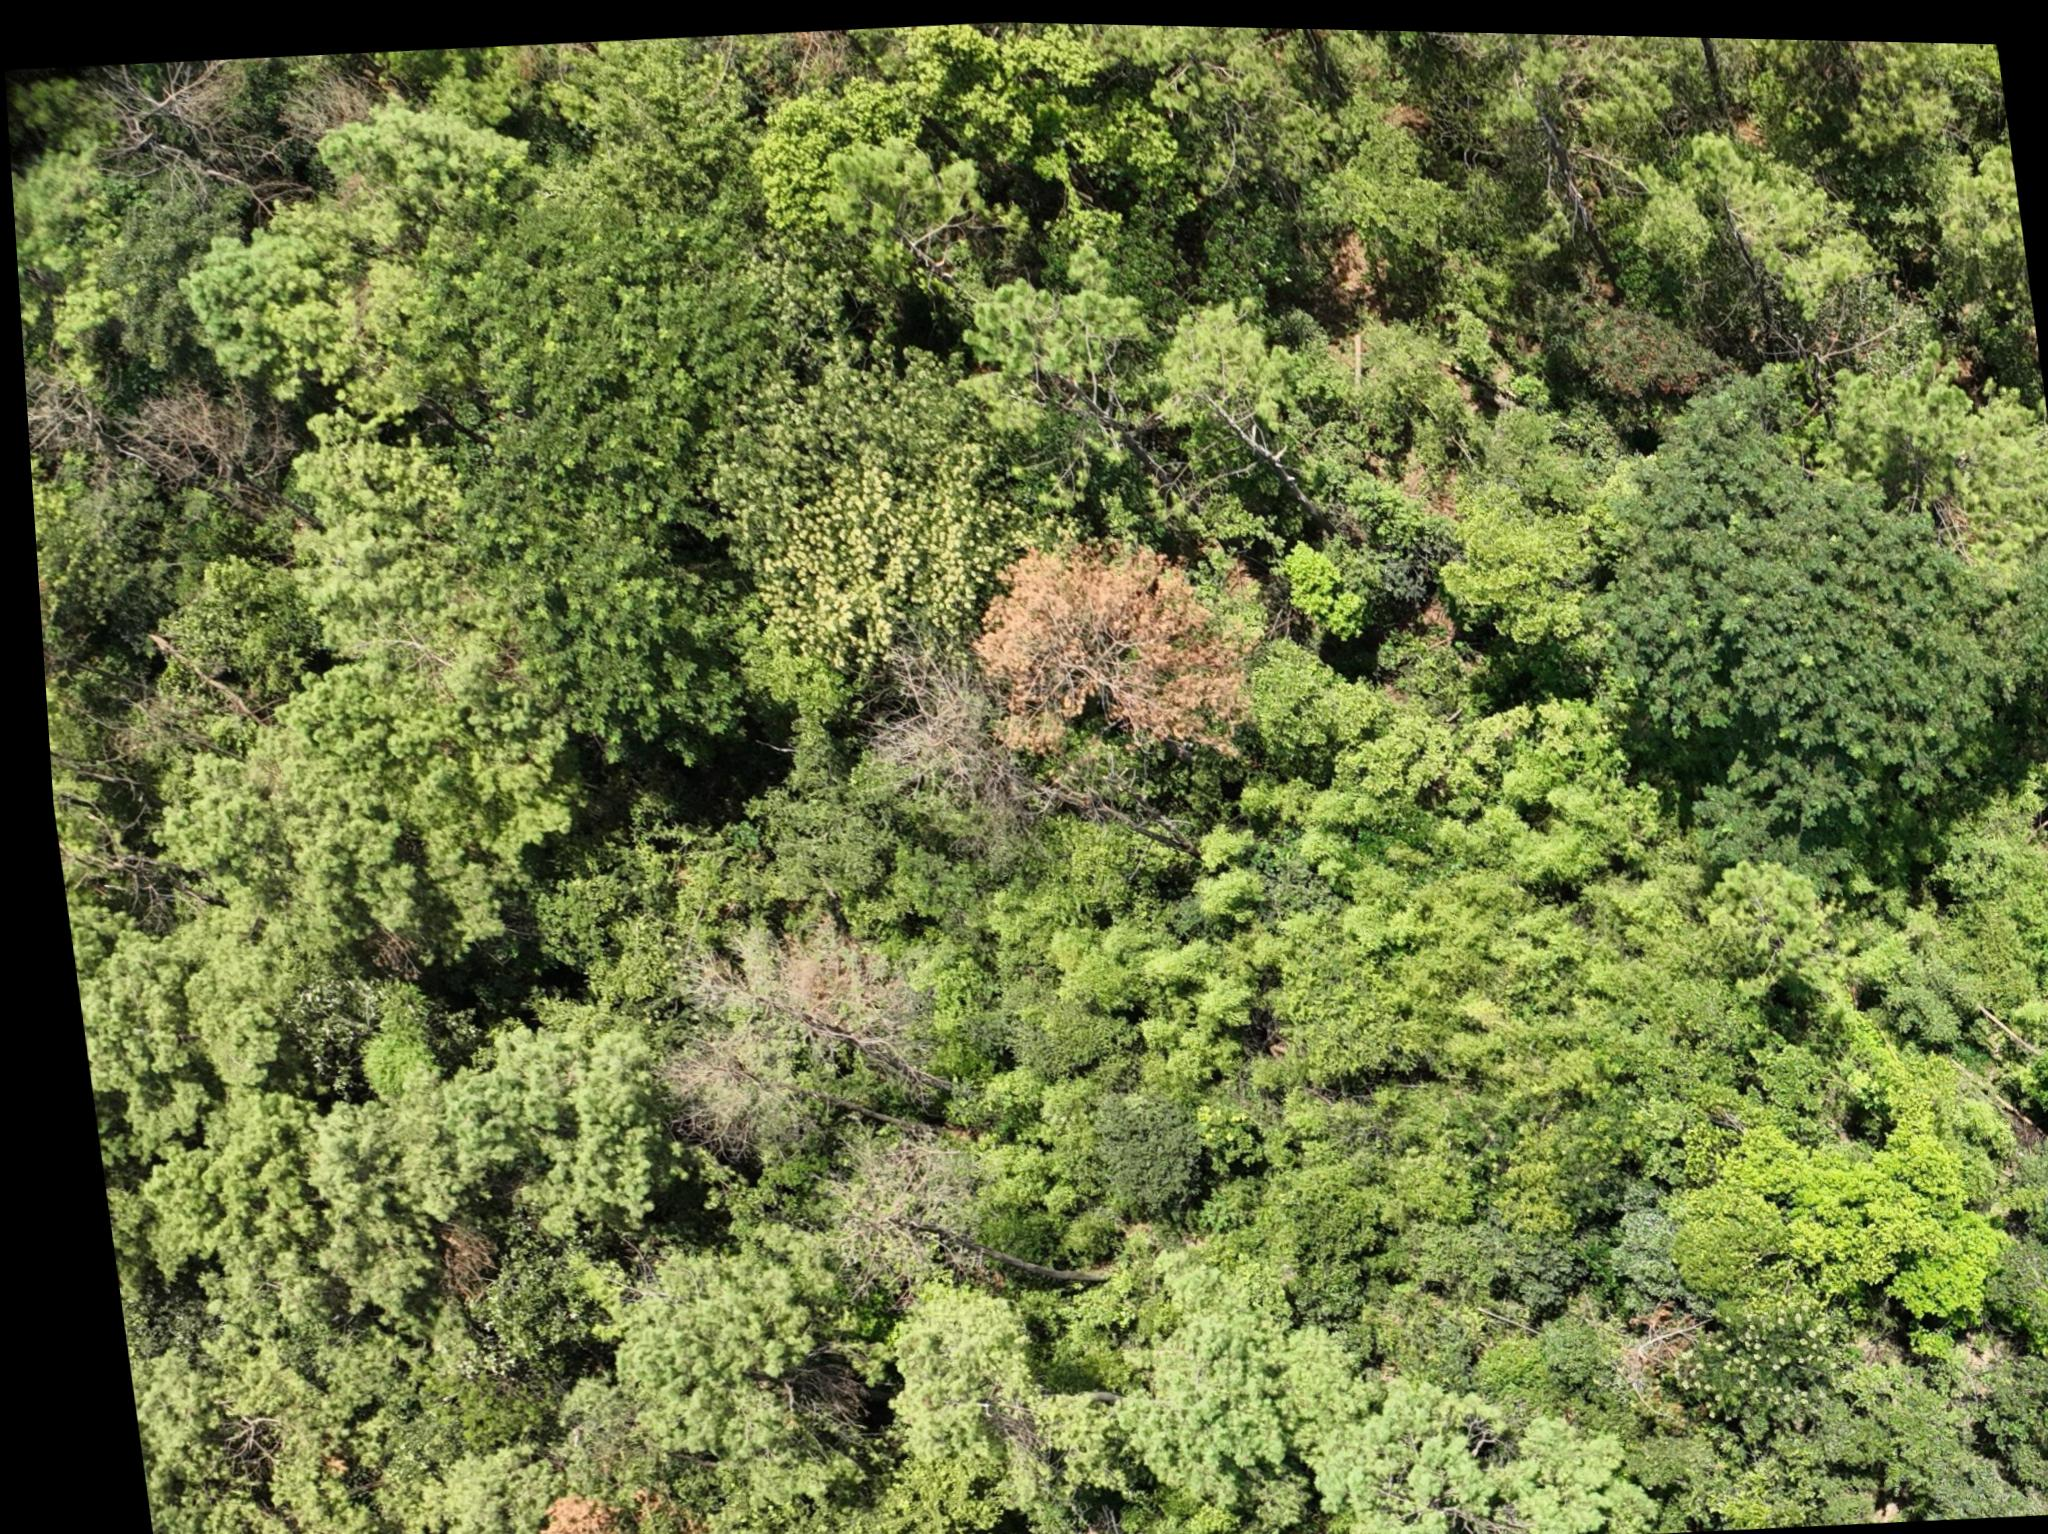dead: (854, 653, 973, 807)
heavy: (947, 522, 1246, 775), (503, 1479, 653, 1534)
